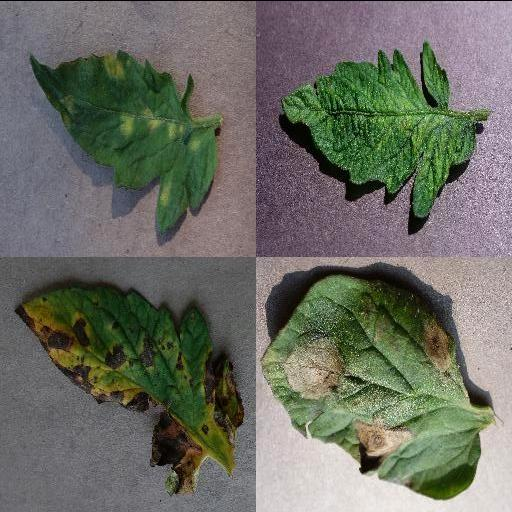Early Blight: (15, 284, 245, 494)
Late Blight: (258, 271, 482, 501)
Leaf Mold: (28, 48, 216, 231)
Mosaic Virus: (278, 38, 478, 218)
